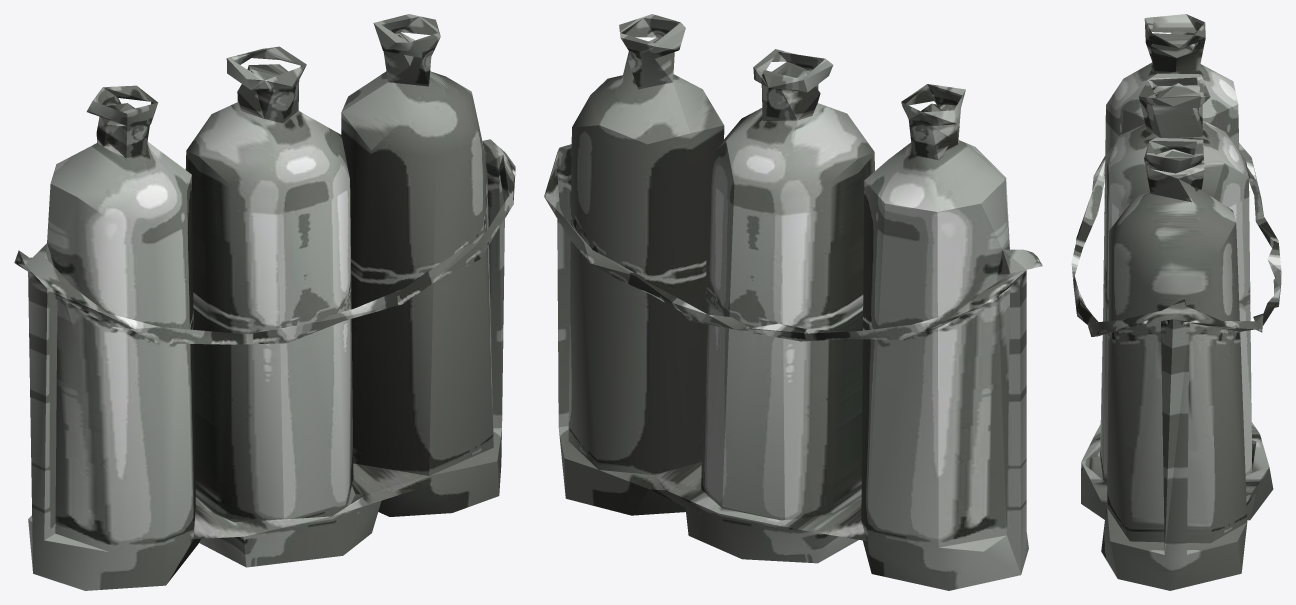
The picture shows the model from 3 angles, left to right: view 1: azimuth 30°, elevation 25°; view 2: azimuth 150°, elevation 25°; view 3: azimuth 270°, elevation 25°; orthographic projection. The views are drawn at different scales.
Visible parts, largest first — view 1: Decor_gas_cylinders_b; view 2: Decor_gas_cylinders_b; view 3: Decor_gas_cylinders_b.
Boxes of the visible parts, x1,y1,x2,y2 form: Decor_gas_cylinders_b: (14,14,515,590); Decor_gas_cylinders_b: (544,14,1042,590); Decor_gas_cylinders_b: (1071,14,1281,590).
Bounding box in the file's own units: 1.51 × 1.4 × 0.6506.
1 material, 1 textured.
